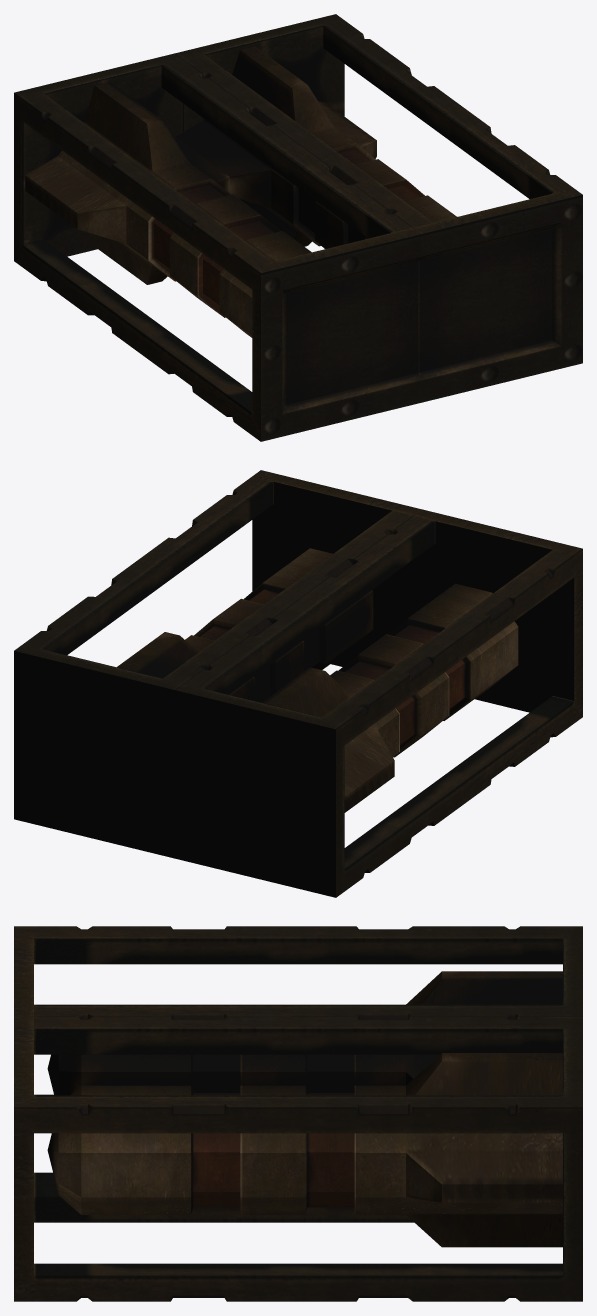
File: b_rock1.obj
3 renders of one model, top to bottom at view 1: azimuth 30°, elevation 25°; view 2: azimuth 150°, elevation 25°; view 3: azimuth 270°, elevation 25°, orthographic. The views are drawn at different scales.
Size of the model in its own units: 30 by 15 by 39.84.
